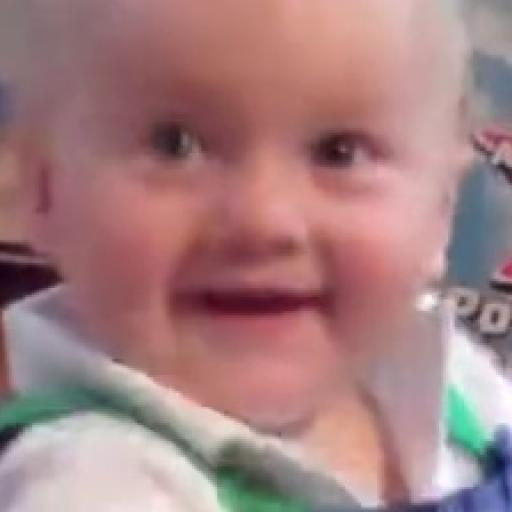Autism: (18, 6, 512, 432)
